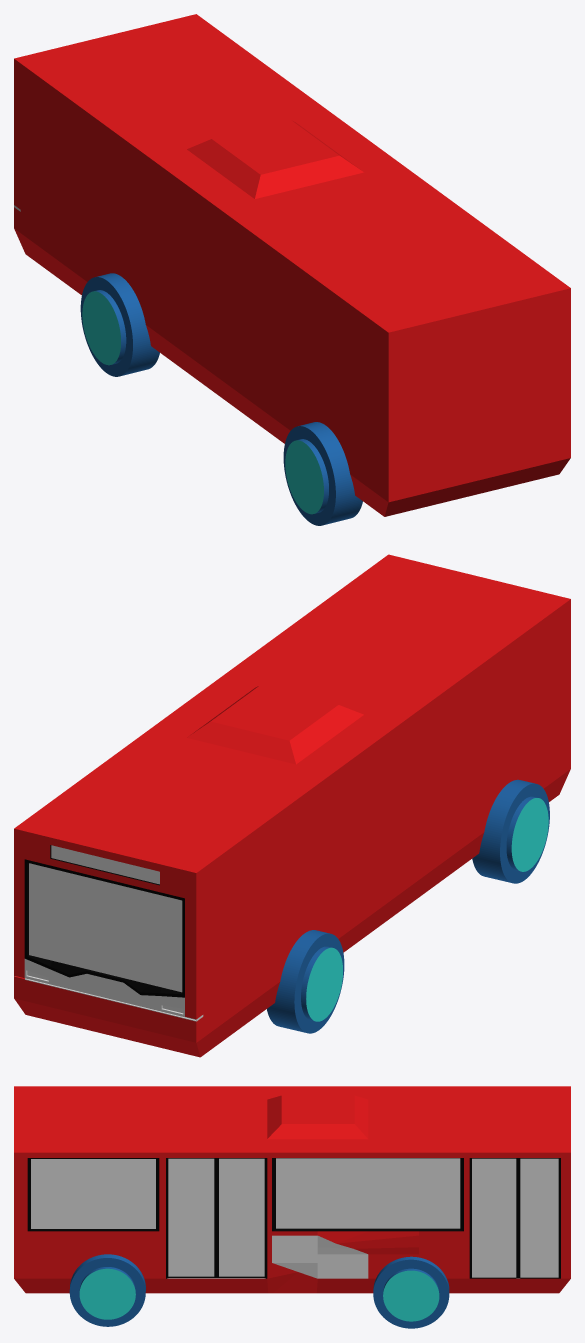
The model's file is otobus.fbx.
3 views of the same model, one above another, from view 1: azimuth 30°, elevation 25°; view 2: azimuth 150°, elevation 25°; view 3: azimuth 270°, elevation 25° (orthographic). The views are drawn at different scales.
Parts seen in each view (by area): view 1: Cube, Cylinder.003, Cylinder.002; view 2: Cube, Cylinder.003, Cylinder.002; view 3: Cube, Cylinder.001, Cylinder.004.
Part boxes in pixels (<box>): Cube: <box>14,14,570,516</box>; Cylinder.003: <box>283,422,362,525</box>; Cylinder.002: <box>80,273,159,376</box>; Cube: <box>14,554,570,1057</box>; Cylinder.003: <box>472,779,549,883</box>; Cylinder.002: <box>267,930,344,1033</box>; Cube: <box>14,1086,570,1293</box>; Cylinder.001: <box>69,1254,145,1326</box>; Cylinder.004: <box>373,1256,449,1328</box>.
Bounding box in the file's own units: 481 × 514 × 1417.
